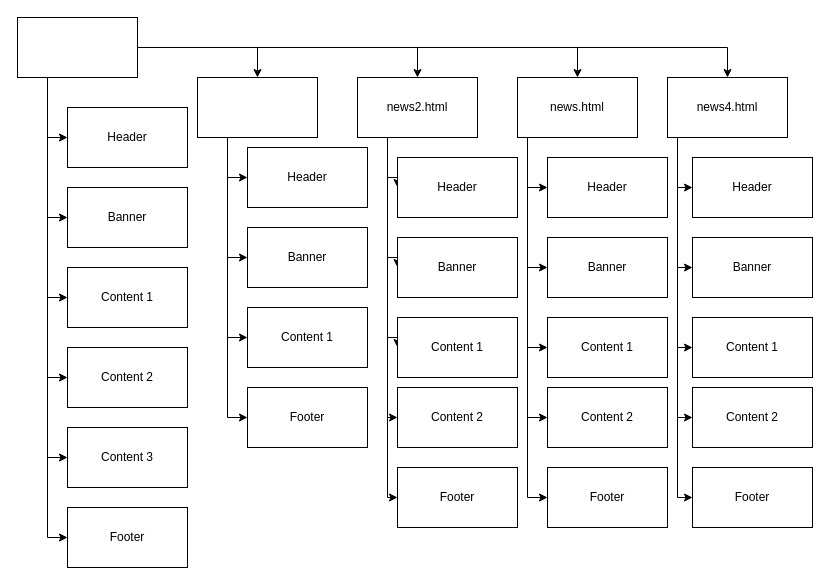
This 830x585 diagram has some shape labels left out. The shapes that lost their labels are listed below. From the top down, each one's box as (x1, y1, x2, y2) in pixels, then its label:
(16, 16, 138, 78): Main Pages (index.html)
(196, 76, 318, 138): news1.html
